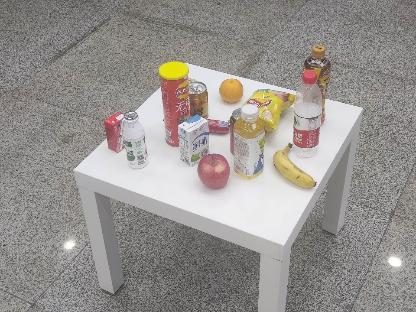Can: (188, 82, 212, 120)
Others: (158, 60, 190, 148), (174, 112, 212, 168), (103, 113, 126, 154)
Plastic Bottle: (292, 68, 324, 150), (124, 111, 149, 171)
